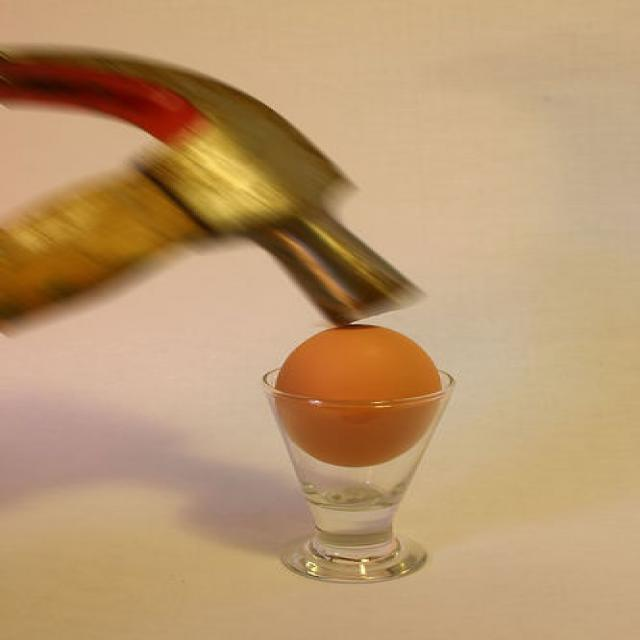hammer: (0, 35, 452, 334)
